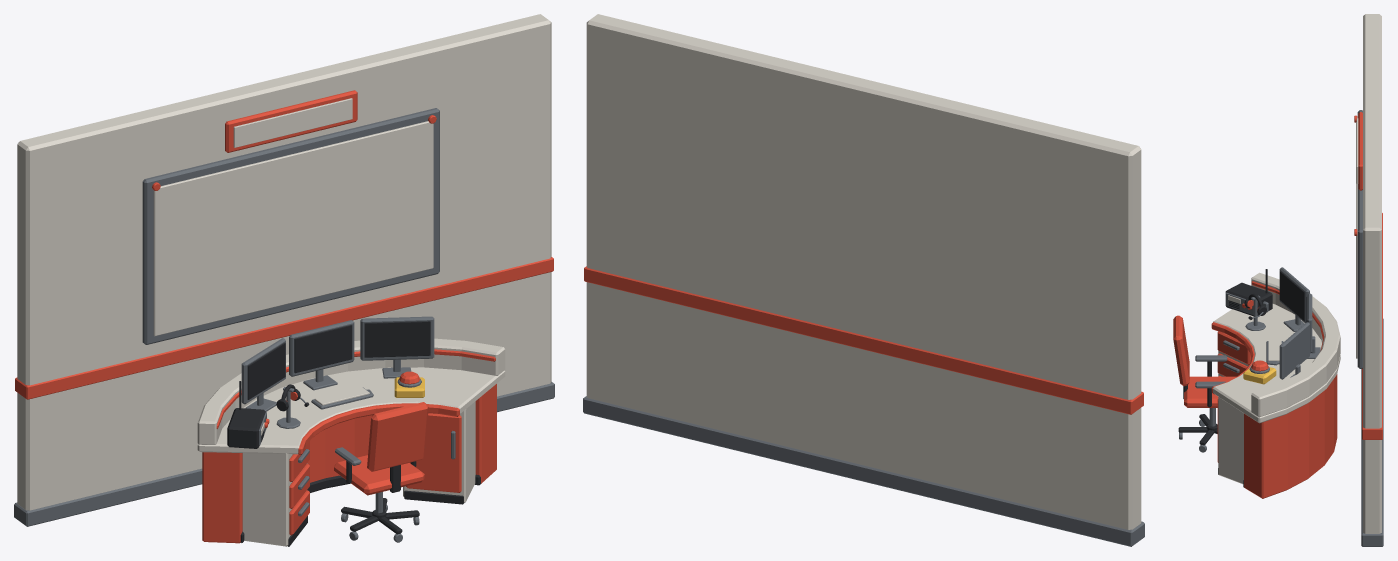
Rendered from fire-dispatch-desk.glb.
3 renders of one model, left to right at view 1: azimuth 30°, elevation 25°; view 2: azimuth 150°, elevation 25°; view 3: azimuth 270°, elevation 25°, orthographic. The views are drawn at different scales.
Parts seen in each view (by area): view 1: Wall_Panel, Map_Board, Map_Frame, Desk_Body, Desk_Top, Wall_Stripe, Desk_Riser, Pedestal_L_Body, Wall_Baseboard, Chair_Back, CabinetDoor, Sign_Face (+11 smaller); view 2: Wall_Panel, Wall_Baseboard, Wall_Stripe; view 3: Wall_Panel, Desk_Body, Desk_Top, Desk_Riser, Pedestal_R_Body, Monitor_3_Bezel, Map_Frame, Wall_Baseboard, Chair_Cushion, Chair_Back, Screen_1, Radio_Body (+8 smaller).
Part boxes in pixels (left/top/right/bottom): Wall_Panel: left=17, top=14, right=551, bottom=510; Map_Board: left=153, top=121, right=433, bottom=336; Map_Frame: left=142, top=108, right=439, bottom=344; Desk_Body: left=202, top=384, right=496, bottom=543; Desk_Top: left=197, top=367, right=505, bottom=454; Wall_Stripe: left=15, top=257, right=553, bottom=399; Desk_Riser: left=197, top=338, right=505, bottom=444; Pedestal_L_Body: left=242, top=453, right=307, bottom=546; Wall_Baseboard: left=14, top=382, right=554, bottom=526; Chair_Back: left=367, top=402, right=428, bottom=471; CabinetDoor: left=406, top=413, right=461, bottom=492; Sign_Face: left=233, top=98, right=352, bottom=147; Wall_Panel: left=586, top=14, right=1141, bottom=529; Wall_Baseboard: left=583, top=396, right=1144, bottom=546; Wall_Stripe: left=584, top=266, right=1143, bottom=414; Wall_Panel: left=1363, top=14, right=1381, bottom=533; Desk_Body: left=1244, top=374, right=1337, bottom=498; Desk_Top: left=1213, top=304, right=1340, bottom=423; Desk_Riser: left=1251, top=272, right=1340, bottom=417; Pedestal_R_Body: left=1218, top=396, right=1243, bottom=484; Monitor_3_Bezel: left=1279, top=322, right=1309, bottom=379; Map_Frame: left=1357, top=110, right=1362, bottom=368; Wall_Baseboard: left=1361, top=318, right=1383, bottom=546; Chair_Cushion: left=1184, top=376, right=1236, bottom=407; Chair_Back: left=1173, top=315, right=1189, bottom=386; Screen_1: left=1279, top=271, right=1304, bottom=320; Radio_Body: left=1225, top=282, right=1272, bottom=316.
Size of the model in its own units: 16.1 by 11 by 6.59.
